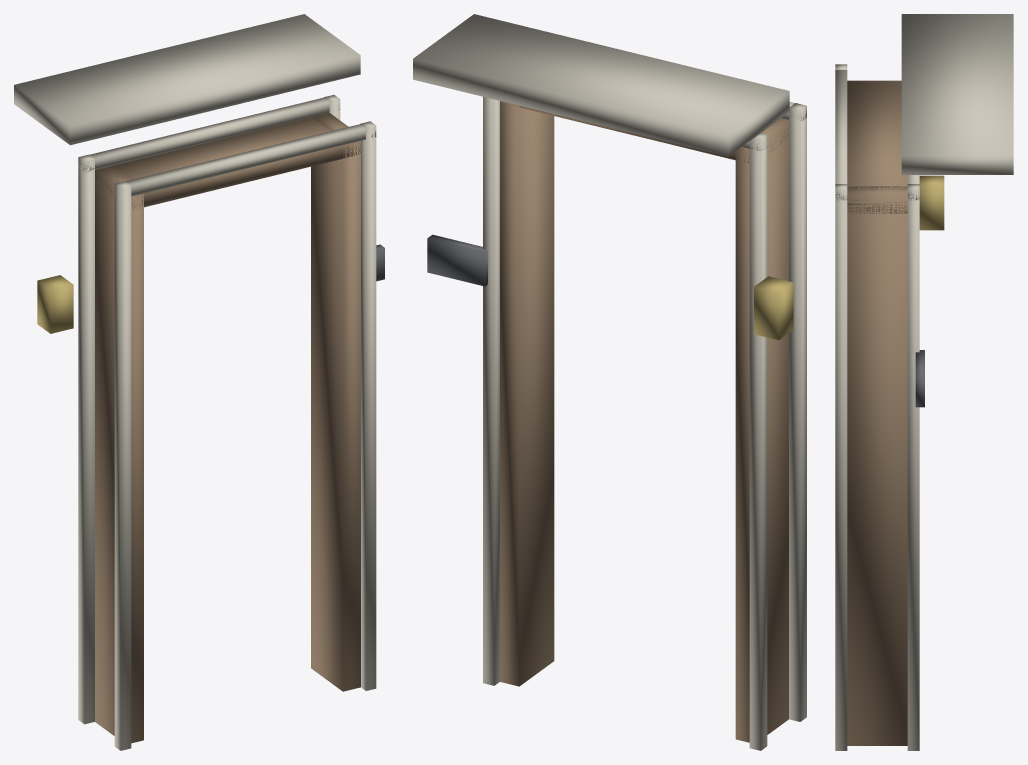
Rendered from doorway_motel_w86_h220_d24.glb.
3 views of the same model, side by side, from view 1: azimuth 30°, elevation 25°; view 2: azimuth 150°, elevation 25°; view 3: azimuth 270°, elevation 25° (orthographic). The views are drawn at different scales.
Parts seen in each view (by area): view 1: world; view 2: world; view 3: world.
Part boxes in pixels (x1,y1,x2,y2): world: (14, 14, 384, 750); world: (413, 14, 806, 750); world: (835, 14, 1013, 750).
Bounding box in the file's own units: 1.44 × 2.5 × 0.6682.
